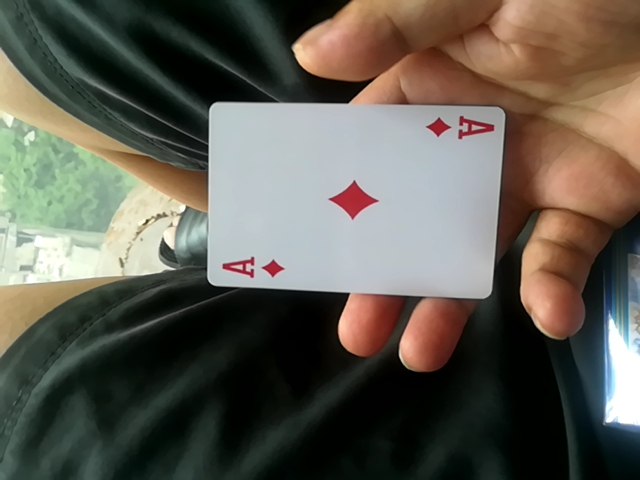fk a: (194, 100, 510, 302)
